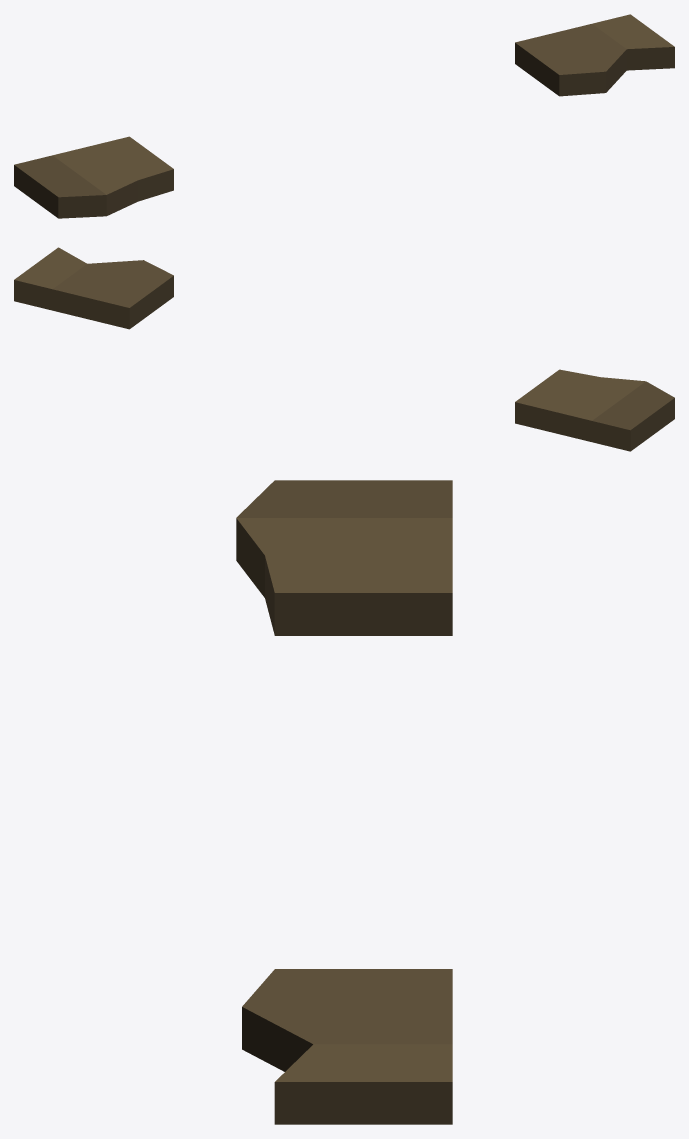
Rendered from edge_mouth_mud.glb.
3 views of the same model, one above another, from view 1: azimuth 30°, elevation 25°; view 2: azimuth 150°, elevation 25°; view 3: azimuth 270°, elevation 25° (orthographic). The views are drawn at different scales.
Parts seen in each view (by area): view 1: edge_mouth_mud; view 2: edge_mouth_mud; view 3: edge_mouth_mud.
Part boxes in pixels (x1=…): edge_mouth_mud: x1=14, y1=14, x2=674, y2=218; edge_mouth_mud: x1=14, y1=247, x2=674, y2=451; edge_mouth_mud: x1=236, y1=480, x2=452, y2=1124.
Bounding box in the file's own units: 3.2 × 0.106 × 0.4867.
